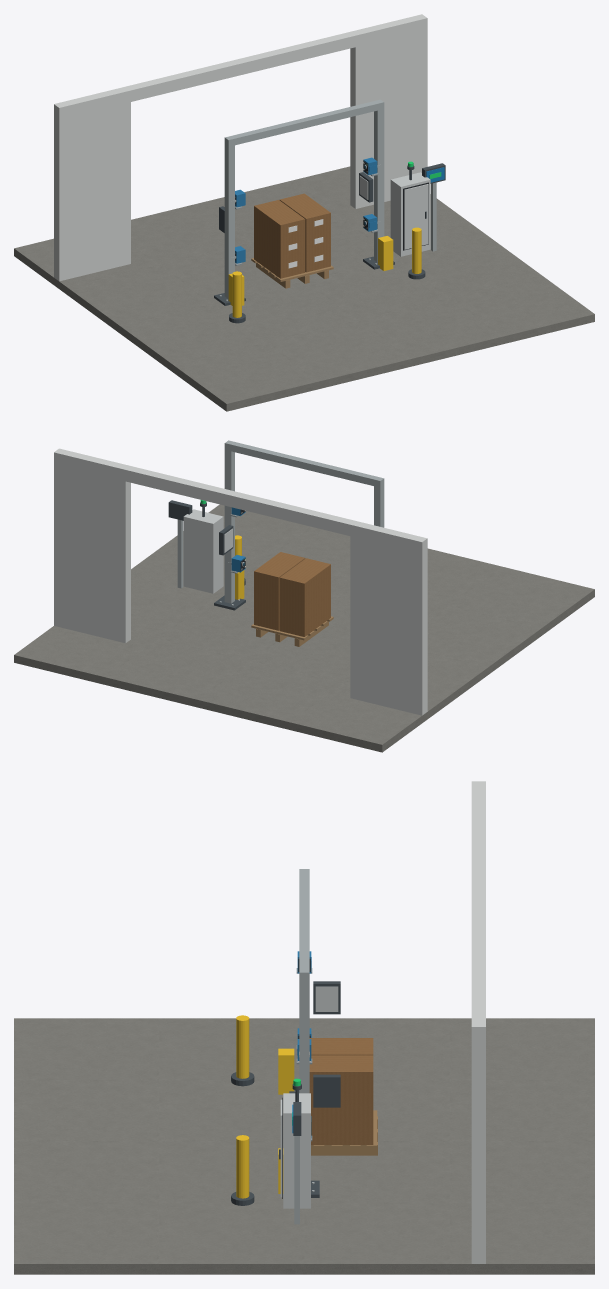
The picture shows the model from 3 angles, top to bottom: view 1: azimuth 30°, elevation 25°; view 2: azimuth 150°, elevation 25°; view 3: azimuth 270°, elevation 25°; orthographic projection. The views are drawn at different scales.
Parts seen in each view (by area): view 1: Warehouse floor, Dock wall, Dock wall.001, Dock lintel, Portal crossbeam, Sample freight carton.004, Portal upright, Control cabinet, Portal upright.001, Cabinet door, Sample freight carton.005, Sample freight carton.002 (+2 smaller); view 2: Warehouse floor, Dock wall, Dock wall.001, Dock lintel, Control cabinet, Portal crossbeam, Sample freight carton.004, Portal upright.001, Sample freight carton.005, Sample freight carton, Sample freight carton.002, Portal upright (+3 smaller); view 3: Warehouse floor, Dock wall.001, Control cabinet, Dock lintel, Sample freight carton.005, Sample freight carton.001, Sample freight carton.003, Portal upright.001, Portal crossbeam, Sample freight carton.004, RFID panel housing.001, Impact guard bollard (+3 smaller).
Boxes of the visible parts, <box> form: Warehouse floor: <box>14,166,594,411</box>; Dock wall: <box>54,87,130,281</box>; Dock wall.001: <box>350,14,427,208</box>; Dock lintel: <box>125,31,355,101</box>; Portal crossbeam: <box>224,99,384,146</box>; Sample freight carton.004: <box>254,200,305,242</box>; Portal upright: <box>224,141,234,298</box>; Control cabinet: <box>390,172,430,256</box>; Portal upright.001: <box>374,105,384,262</box>; Cabinet door: <box>404,184,428,249</box>; Sample freight carton.005: <box>279,193,330,236</box>; Sample freight carton.002: <box>254,224,305,260</box>; Warehouse floor: <box>14,504,594,752</box>; Dock wall: <box>350,521,427,715</box>; Dock wall.001: <box>54,448,130,643</box>; Dock lintel: <box>125,466,355,536</box>; Control cabinet: <box>183,509,223,593</box>; Portal crossbeam: <box>224,440,384,487</box>; Sample freight carton.004: <box>279,558,330,601</box>; Portal upright.001: <box>224,447,234,603</box>; Sample freight carton.005: <box>254,552,305,594</box>; Sample freight carton: <box>279,600,330,636</box>; Sample freight carton.002: <box>279,582,330,619</box>; Portal upright: <box>374,481,384,527</box>; Warehouse floor: <box>14,1018,594,1274</box>; Dock wall.001: <box>471,979,485,1263</box>; Control cabinet: <box>283,1093,310,1208</box>; Dock lintel: <box>471,829,485,979</box>; Sample freight carton.005: <box>309,1055,373,1096</box>; Sample freight carton.001: <box>311,1120,373,1144</box>; Sample freight carton.003: <box>311,1096,373,1120</box>; Portal upright.001: <box>299,976,309,1093</box>; Portal crossbeam: <box>299,869,309,981</box>; Sample freight carton.004: <box>309,1038,373,1055</box>; RFID panel housing.001: <box>313,1074,340,1107</box>; Impact guard bollard: <box>236,1015,249,1078</box>.
Bounding box in the file's own units: 8 × 3.76 × 8.
20 materials, 2 textured.
